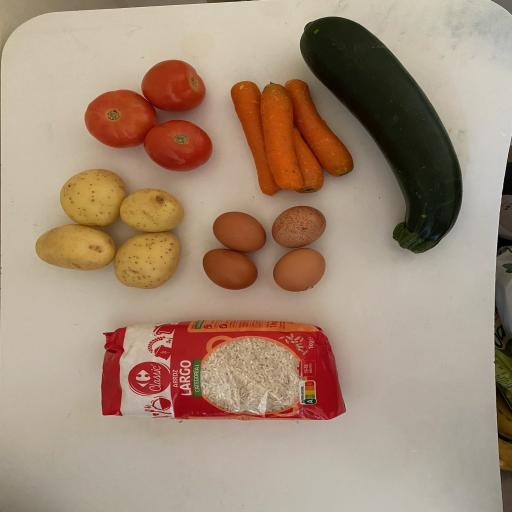carrot: (279, 76, 361, 179), (256, 75, 308, 194), (227, 81, 280, 197), (277, 113, 330, 197)
courgette: (295, 14, 473, 256)
egg: (270, 246, 332, 296), (199, 245, 261, 291), (210, 208, 270, 255), (271, 202, 329, 250)
potato: (56, 165, 128, 231), (112, 229, 188, 291), (32, 221, 119, 273), (118, 186, 187, 236)
rice: (96, 316, 348, 426)
tomato: (84, 86, 157, 151), (140, 58, 210, 114), (143, 118, 214, 173)
